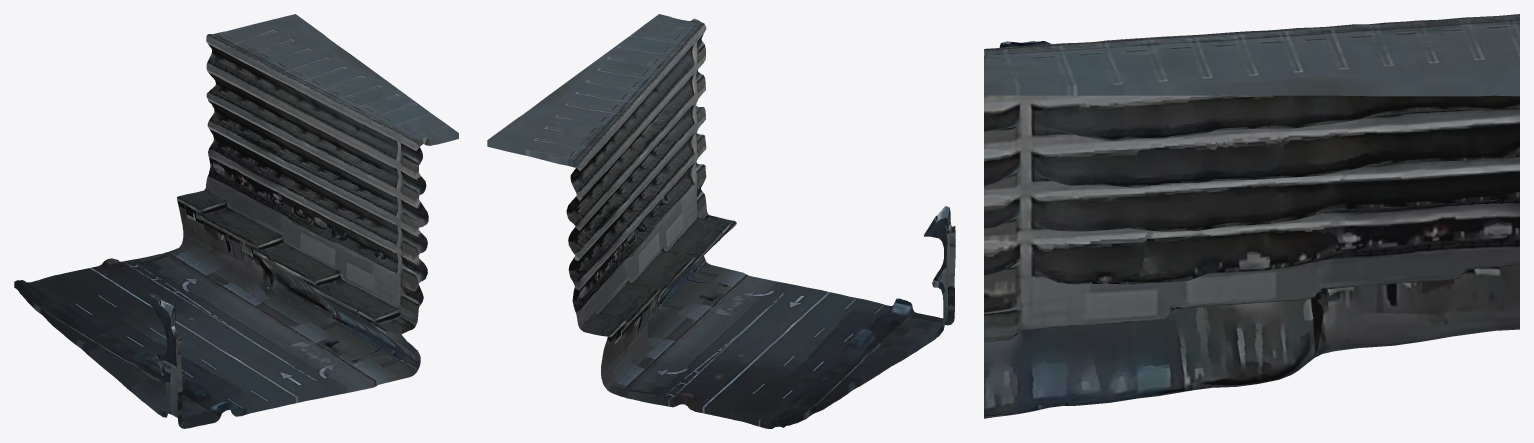
The model's file is z20-167753-405242-h0-yup-uvflip-v3-world.glb.
3 renders of one model, left to right at view 1: azimuth 30°, elevation 25°; view 2: azimuth 150°, elevation 25°; view 3: azimuth 270°, elevation 25°, orthographic. The views are drawn at different scales.
Size of the model in its own units: 30.2 by 24.36 by 30.32.
Materials: 1 (1 with a texture image).
